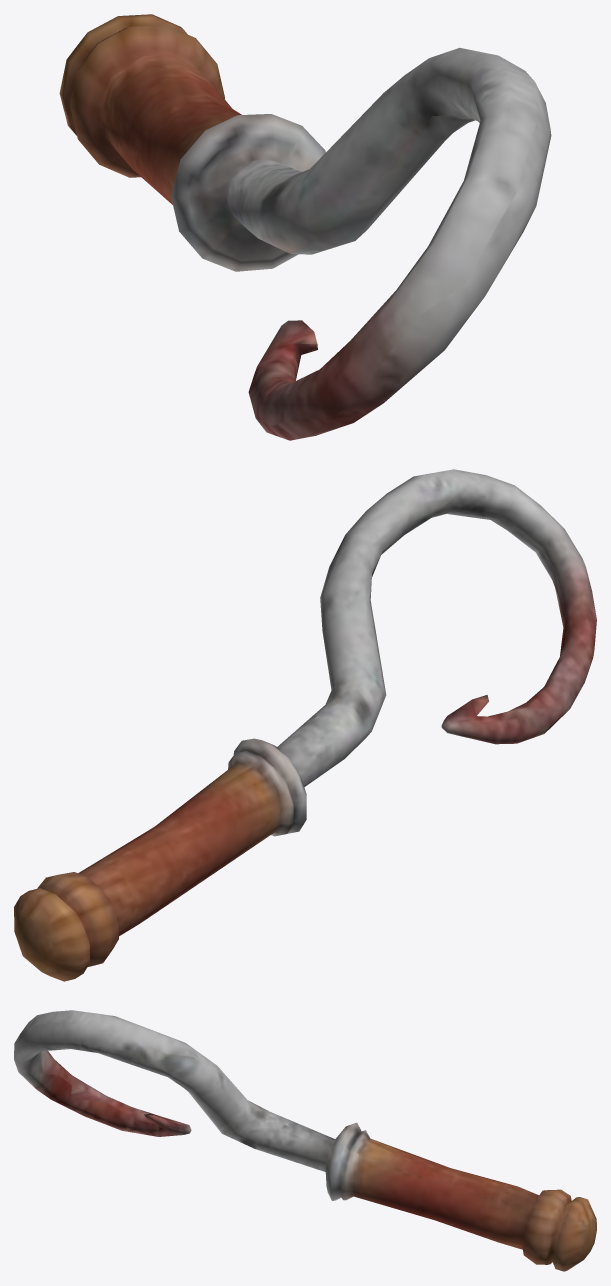
The model's file is skrim-hook.glb.
3 views of the same model, one above another, from view 1: azimuth 30°, elevation 25°; view 2: azimuth 150°, elevation 25°; view 3: azimuth 270°, elevation 25° (orthographic). The views are drawn at different scales.
Visible parts, largest first — view 1: skrim_hook; view 2: skrim_hook; view 3: skrim_hook.
Boxes of the visible parts, <box> form: skrim_hook: <box>59,14,551,440</box>; skrim_hook: <box>14,469,596,981</box>; skrim_hook: <box>14,1010,596,1271</box>.
Size of the model in its own units: 0.1438 by 0.1582 by 0.3638.
1 material, 1 textured.
